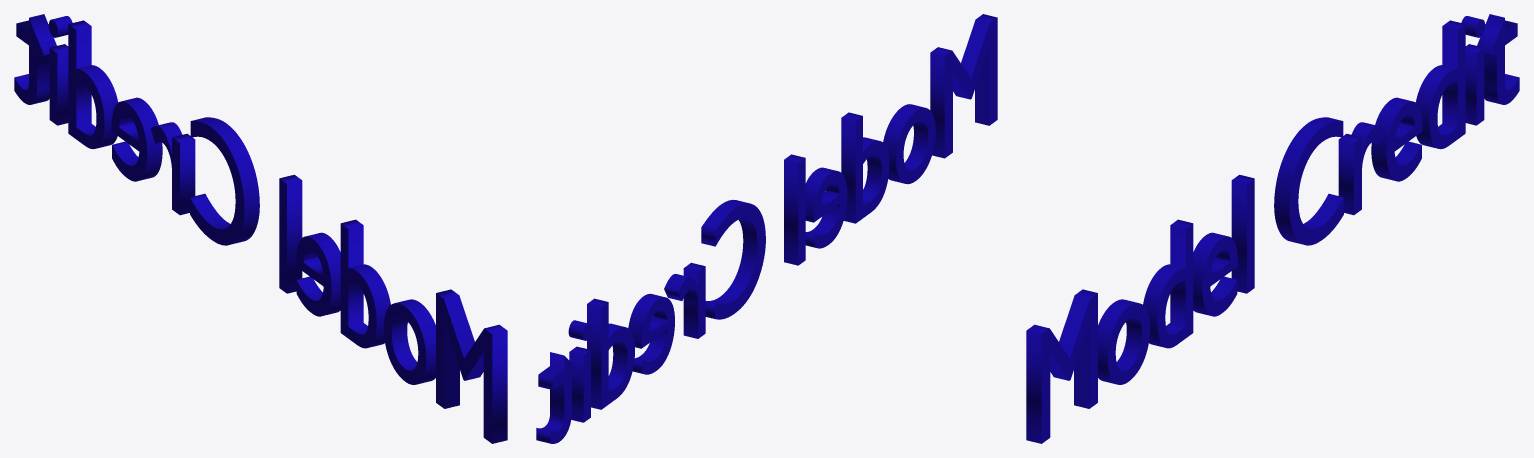
Rendered from ModelCredit.glb.
3 renders of one model, left to right at view 1: azimuth 30°, elevation 25°; view 2: azimuth 150°, elevation 25°; view 3: azimuth 330°, elevation 25°, orthographic. The views are drawn at different scales.
Parts seen in each view (by area): view 1: Text.003; view 2: Text.003; view 3: Text.003.
Boxes of the visible parts, x1,y1,x2,y2 form: Text.003: (14,14,507,443); Text.003: (536,14,997,443); Text.003: (1026,14,1519,443).
Bounding box in the file's own units: 0.07 × 0.49 × 3.77.
